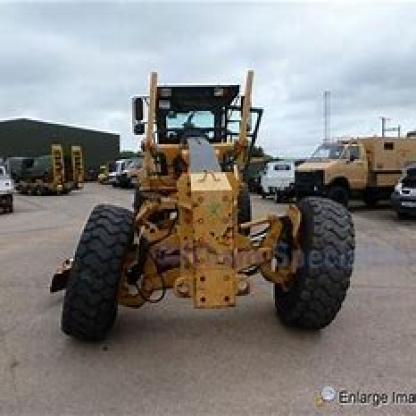bull_dozer/loader/grader: (55, 64, 357, 348)
